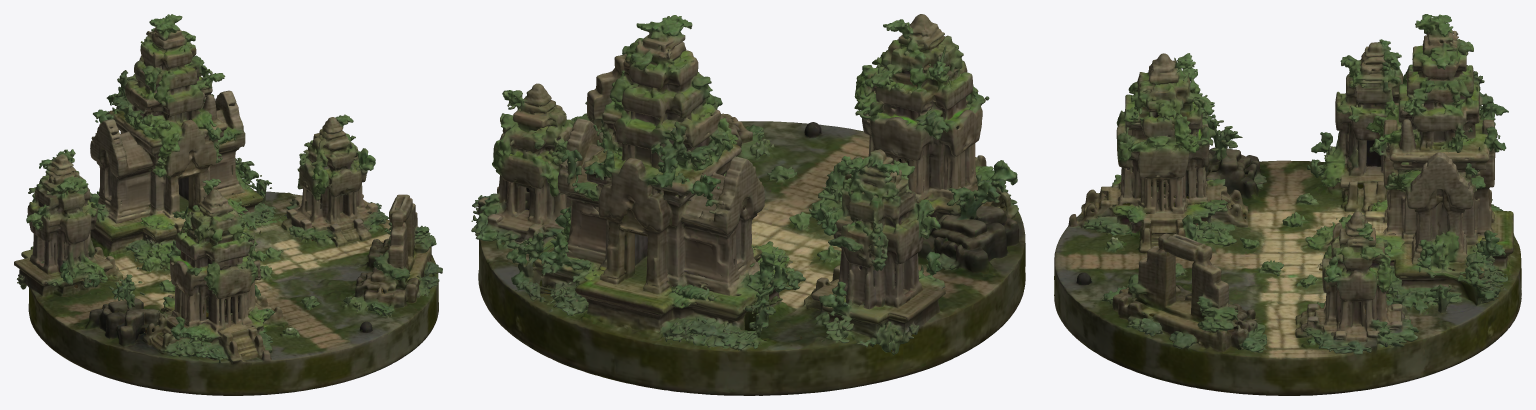
3 renders of one model, left to right at view 1: azimuth 30°, elevation 25°; view 2: azimuth 150°, elevation 25°; view 3: azimuth 270°, elevation 25°, orthographic. The views are drawn at different scales.
Visible parts, largest first — view 1: geometry_0; view 2: geometry_0; view 3: geometry_0.
Part boxes in pixels (bbox=[...]): geometry_0: bbox=[14, 14, 442, 395]; geometry_0: bbox=[471, 14, 1025, 395]; geometry_0: bbox=[1054, 14, 1521, 395].
Bounding box in the file's own units: 1 × 0.6612 × 1.
1 material, 1 textured.
